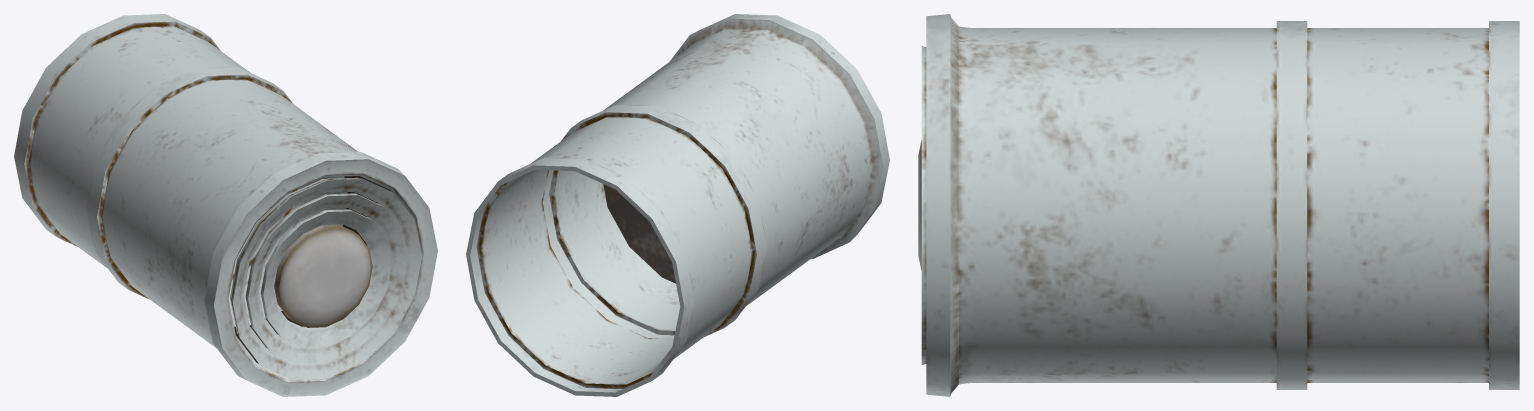
File: end_cap.glb
The picture shows the model from 3 angles, left to right: view 1: azimuth 30°, elevation 25°; view 2: azimuth 150°, elevation 25°; view 3: azimuth 270°, elevation 25°; orthographic projection. The views are drawn at different scales.
Visible parts, largest first — view 1: duct_endPart_low_4; view 2: duct_endPart_low_4; view 3: duct_endPart_low_4.
Part boxes in pixels (x1,y1,x2,y2): duct_endPart_low_4: [14, 14, 437, 396]; duct_endPart_low_4: [466, 14, 889, 396]; duct_endPart_low_4: [918, 14, 1519, 396].
Size of the model in its own units: 0.3239 by 0.3239 by 0.5081.
Materials: 1 (1 with a texture image).
